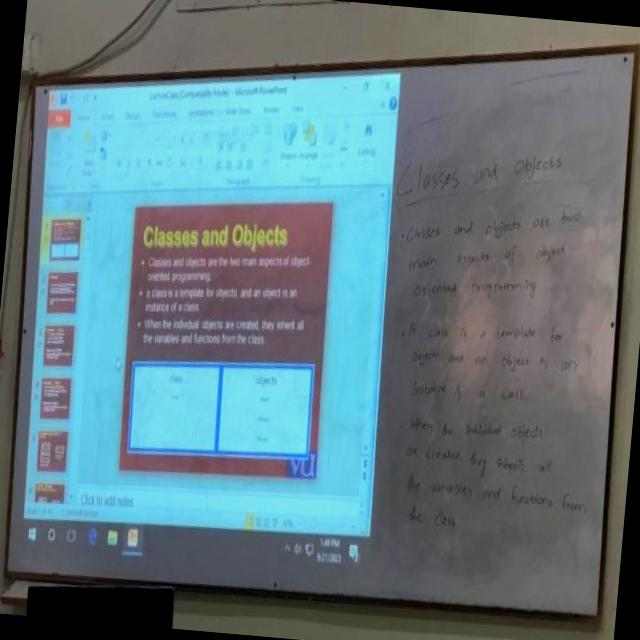Slide: (22, 66, 399, 569)
White-board: (4, 51, 634, 618)
